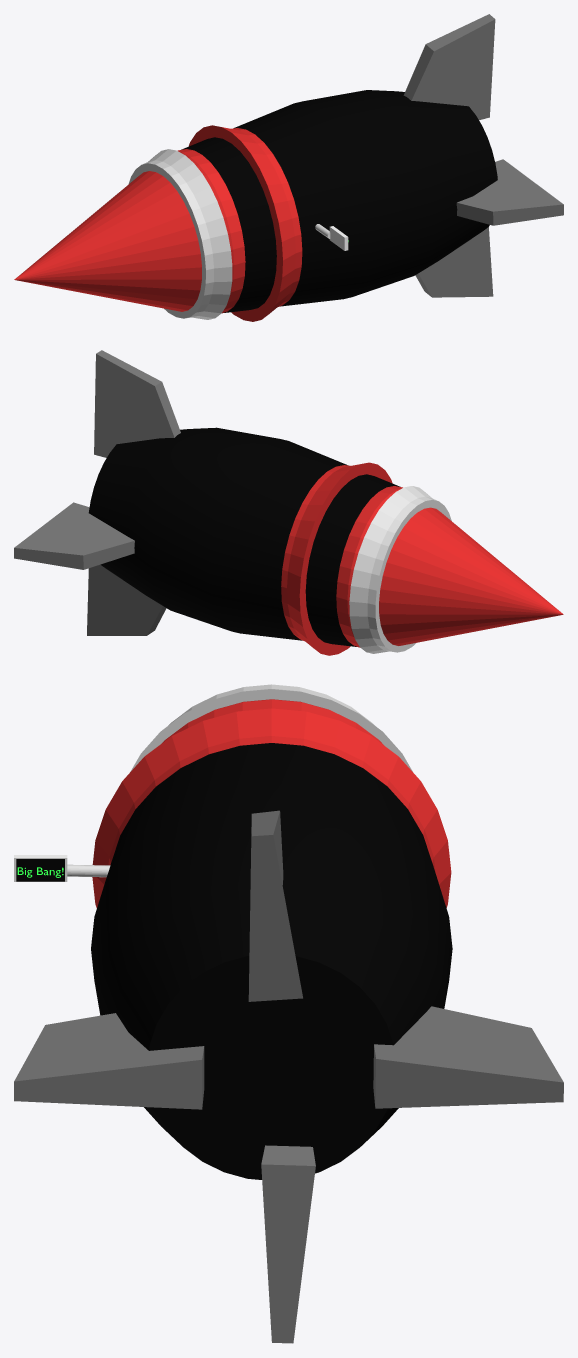
The model's file is BIGBang.fbx.
The picture shows the model from 3 angles, top to bottom: view 1: azimuth 30°, elevation 25°; view 2: azimuth 150°, elevation 25°; view 3: azimuth 270°, elevation 25°; orthographic projection. The views are drawn at different scales.
Parts seen in each view (by area): view 1: Cylinder, Cone, Cube.003, Cylinder.002, Cylinder.001, Cube, Cube.002; view 2: Cylinder, Cone, Cube.003, Cylinder.002, Cylinder.001, Cube.001, Cube.002; view 3: Cylinder, Cylinder.001, Cube.001, Cube, Cube.002, Cube.003, Cylinder.002, Cone, Cube.005.
Part boxes in pixels (x1,y1,x2,y2): Cylinder: (181, 90, 497, 312); Cone: (14, 149, 245, 313); Cube.003: (403, 14, 495, 120); Cylinder.002: (128, 149, 232, 319); Cylinder.001: (188, 125, 302, 321); Cube: (456, 159, 563, 225); Cube.002: (415, 227, 493, 297); Cylinder: (88, 427, 400, 646); Cone: (336, 486, 563, 647); Cube.003: (94, 350, 180, 457); Cylinder.002: (349, 486, 451, 653); Cylinder.001: (281, 462, 392, 655); Cube.001: (14, 502, 134, 569); Cube.002: (87, 564, 166, 635); Cylinder: (91, 743, 452, 1179); Cylinder.001: (92, 708, 451, 908); Cube.001: (373, 1006, 563, 1108); Cube: (14, 1013, 204, 1109); Cube.002: (261, 1145, 315, 1343); Cube.003: (248, 810, 302, 1001); Cylinder.002: (130, 684, 412, 771); Cone: (162, 699, 383, 744); Cube.005: (16, 859, 64, 881).
Bounding box in the file's own units: 545 × 308 × 304.
